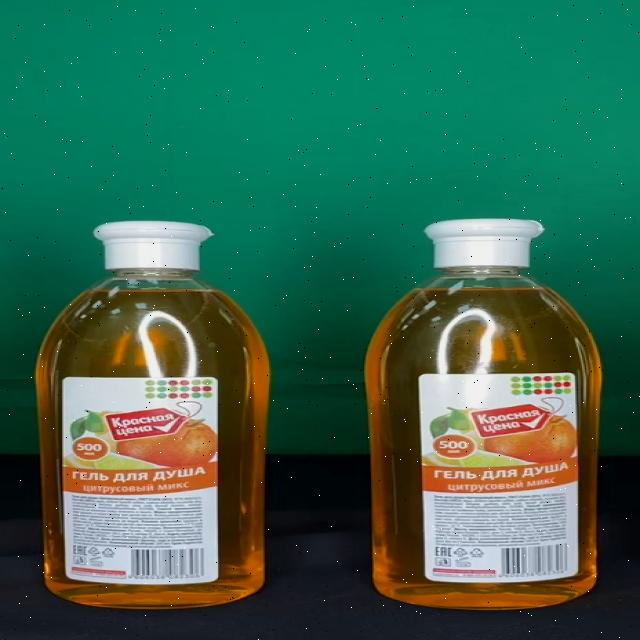Bottle: (362, 216, 605, 612), (32, 220, 275, 608)
Cap: (425, 218, 545, 268), (88, 222, 211, 270)
